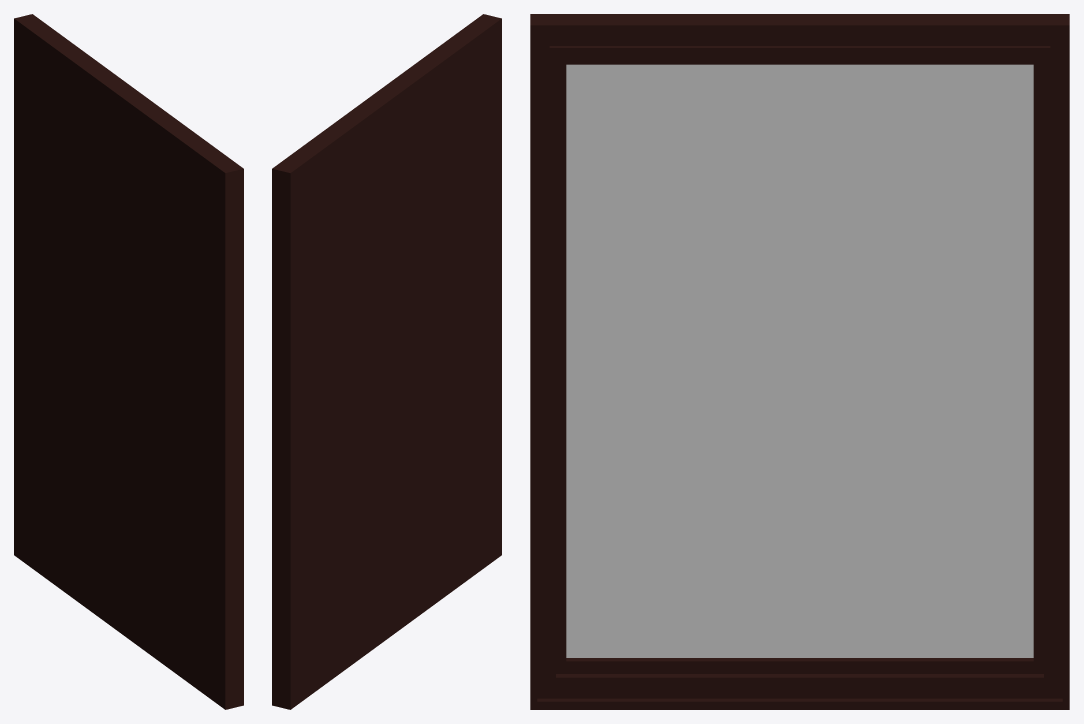
The model's file is Bild1 Dame (1).fbx.
3 renders of one model, left to right at view 1: azimuth 30°, elevation 25°; view 2: azimuth 150°, elevation 25°; view 3: azimuth 270°, elevation 25°, orthographic. The views are drawn at different scales.
Visible parts, largest first — view 1: Cube; view 2: Cube; view 3: Cube.
Boxes of the visible parts, x1,y1,x2,y2 form: Cube: (14,14,243,709); Cube: (272,14,501,709); Cube: (530,14,1069,709).
Size of the model in its own units: 4.13 by 115 by 82.11.
